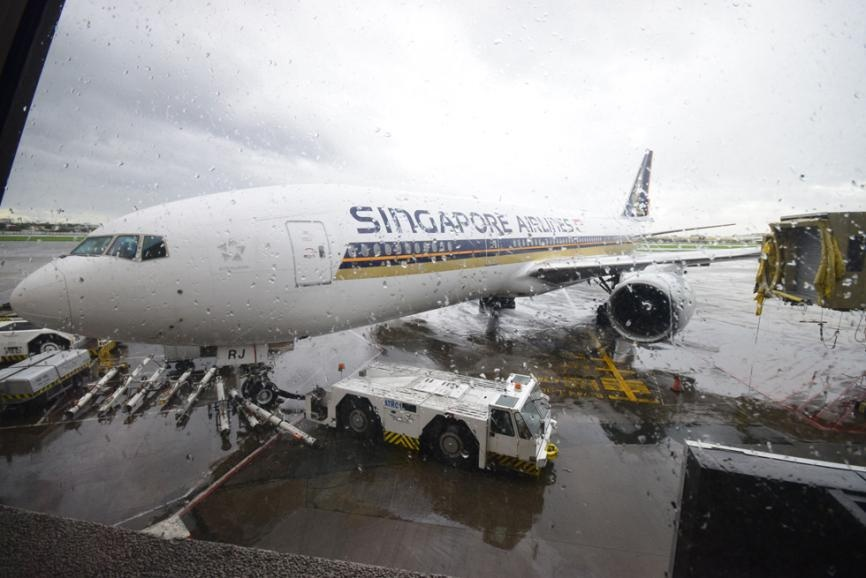airplane: (15, 148, 824, 358)
